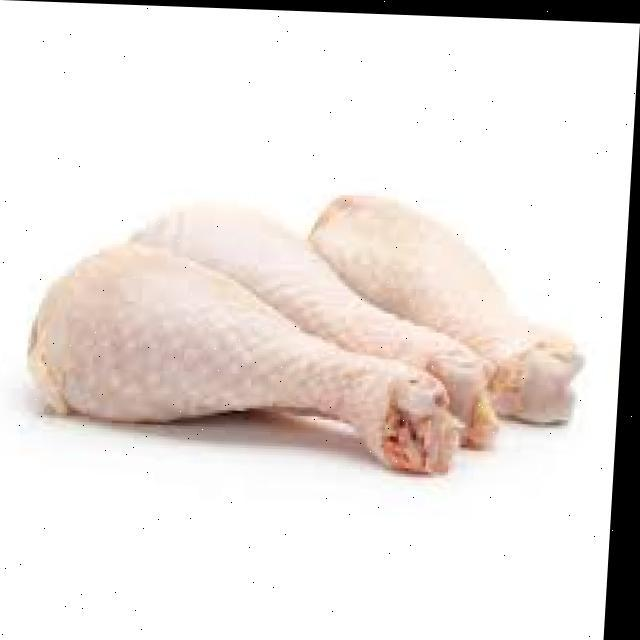leg: (30, 234, 468, 491), (98, 196, 508, 436), (291, 180, 591, 412)
